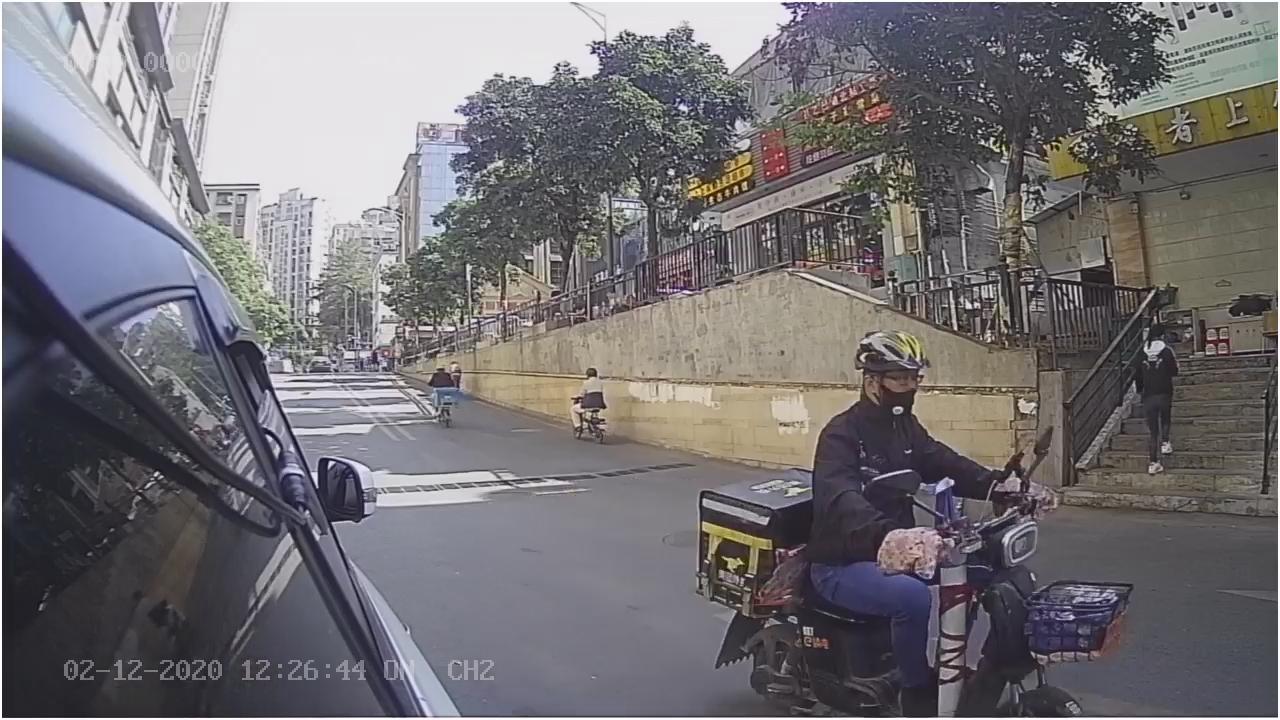person: (809, 323, 998, 535)
